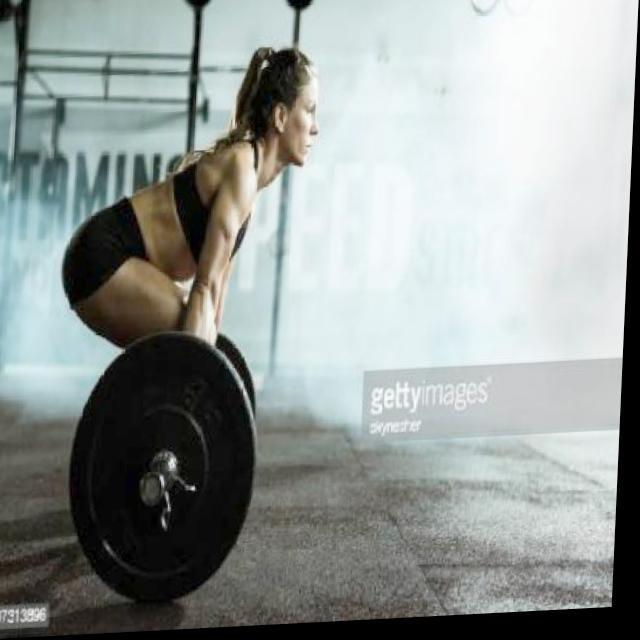barbell: (62, 326, 268, 617)
